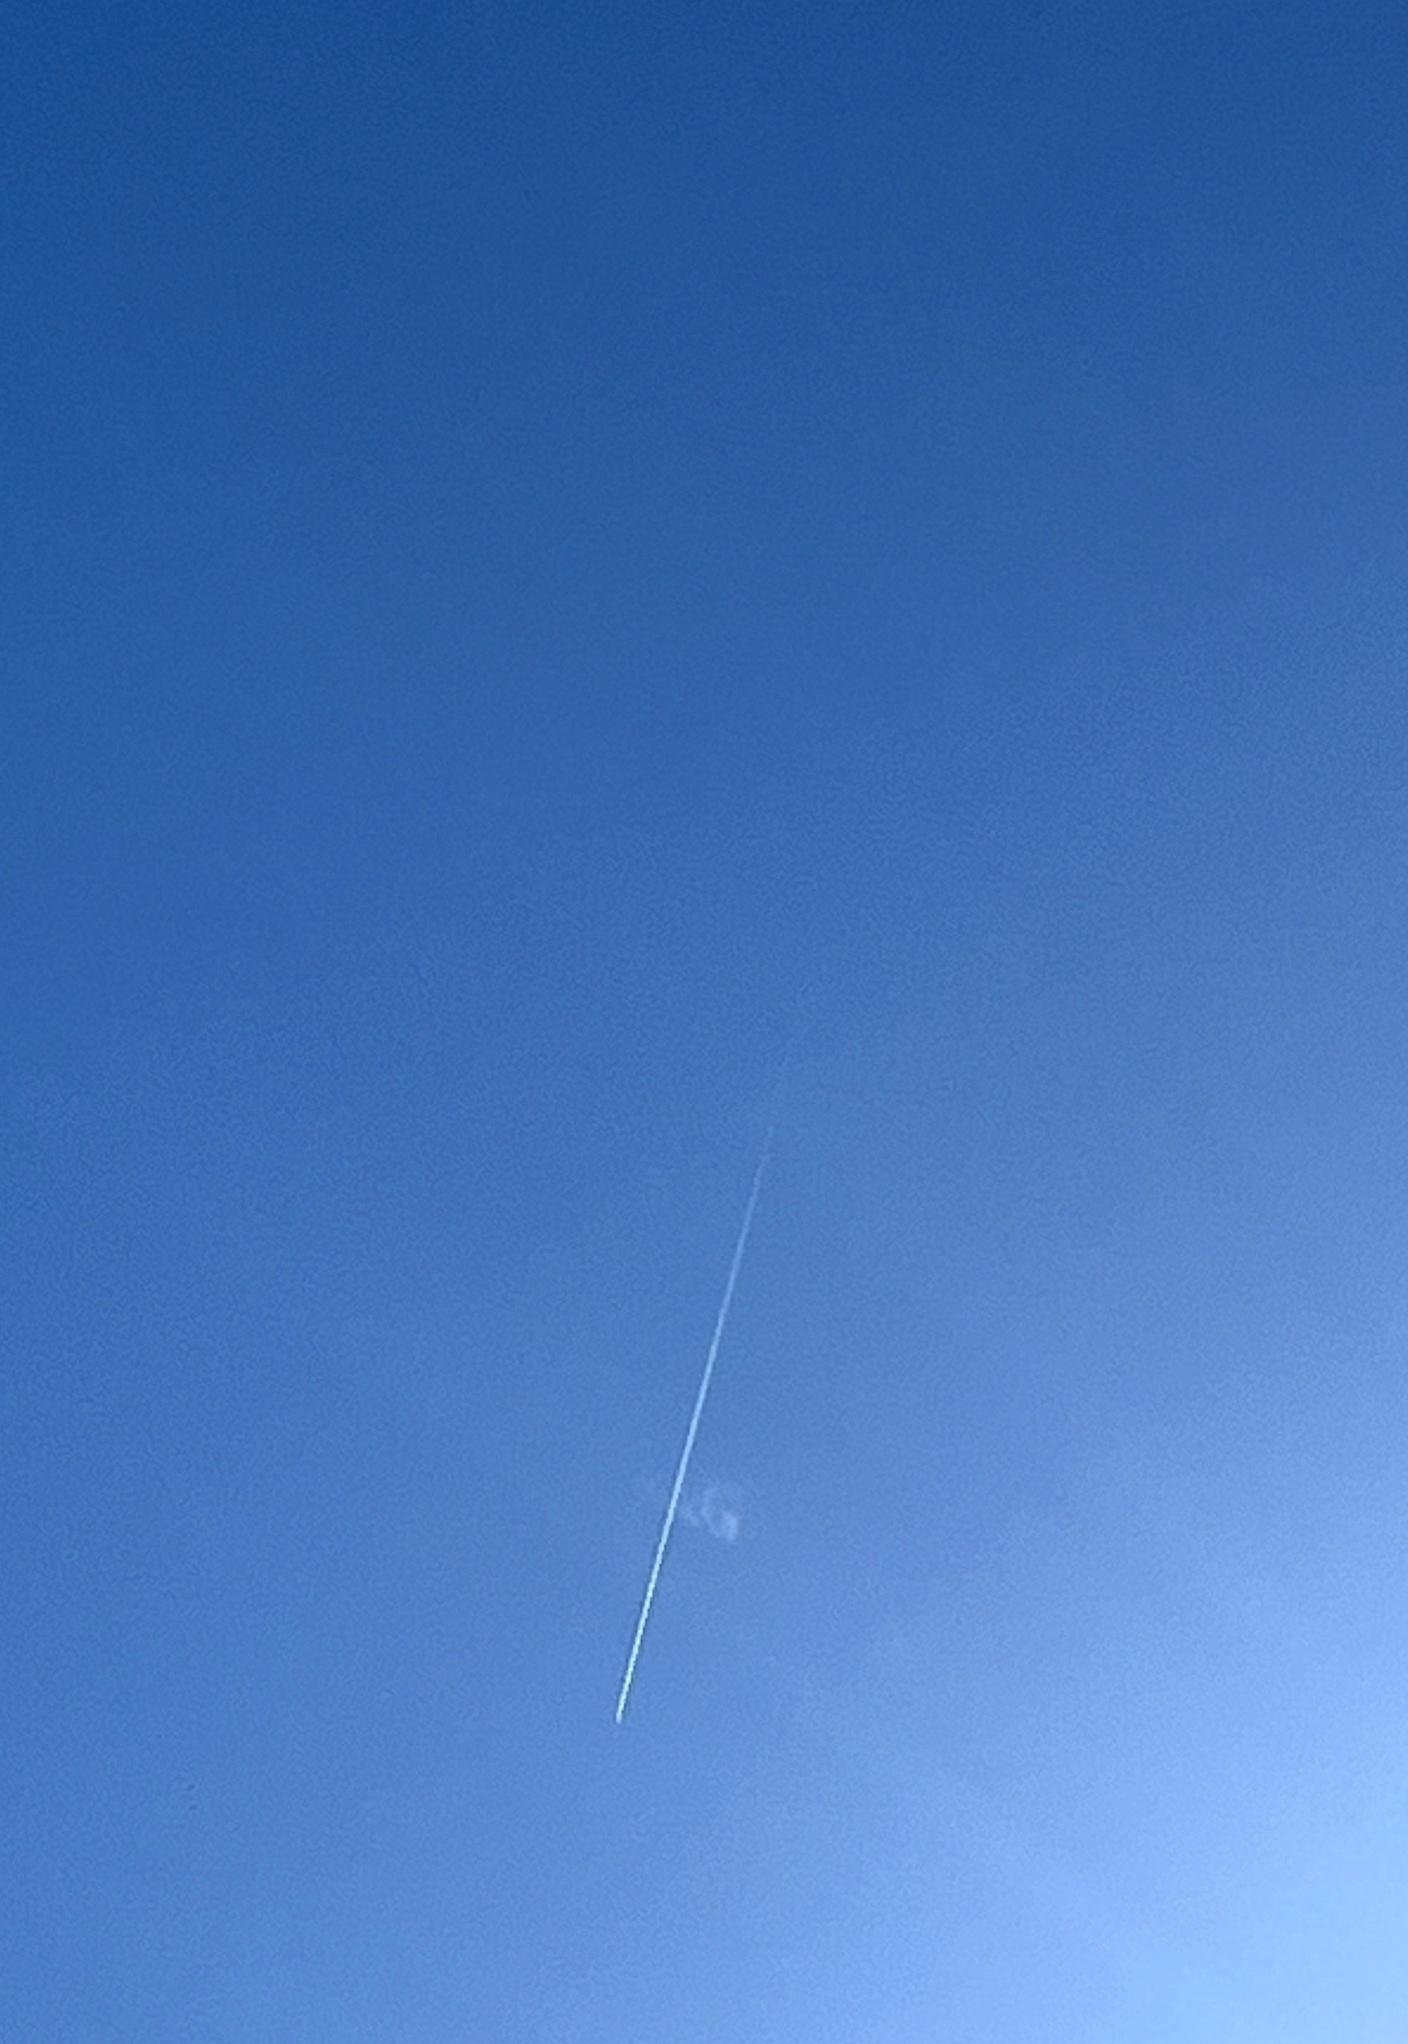Plane: (550, 1109, 824, 1744)
